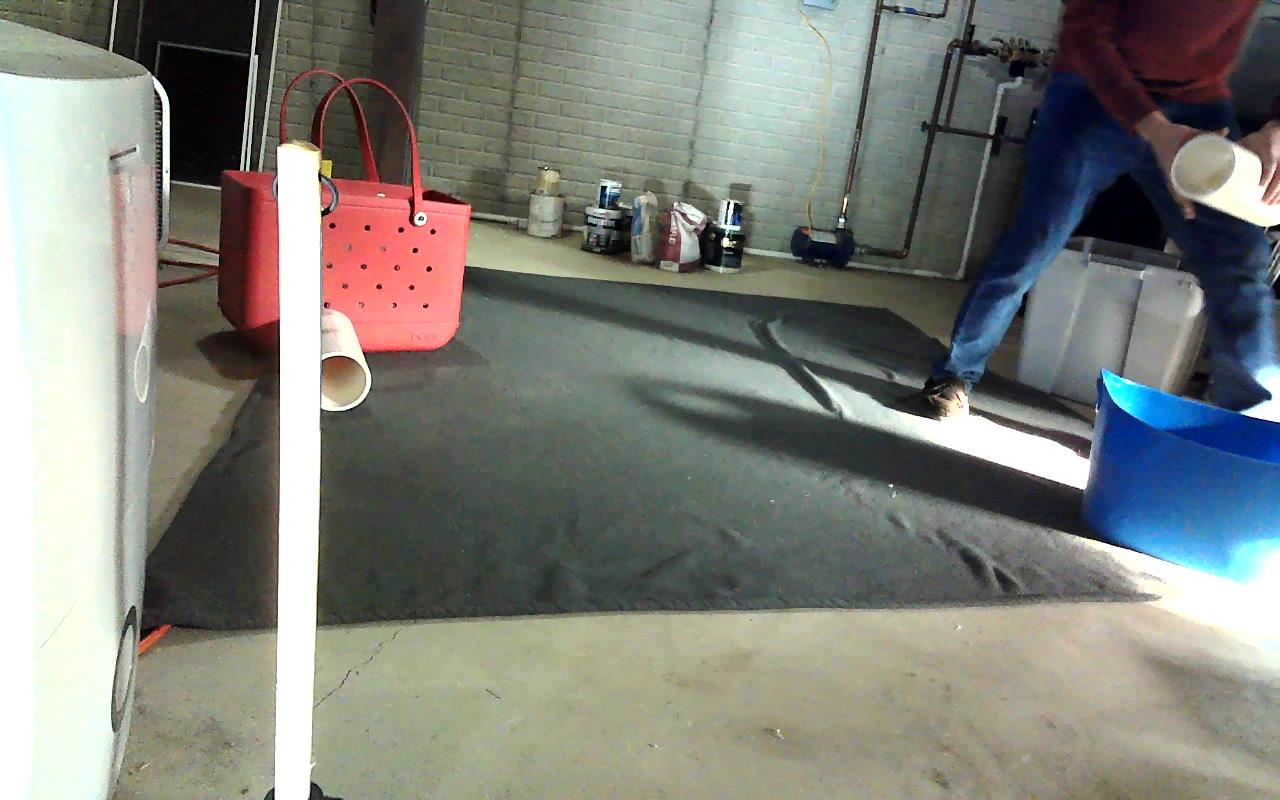coral: (1170, 133, 1279, 226), (319, 308, 369, 409)
